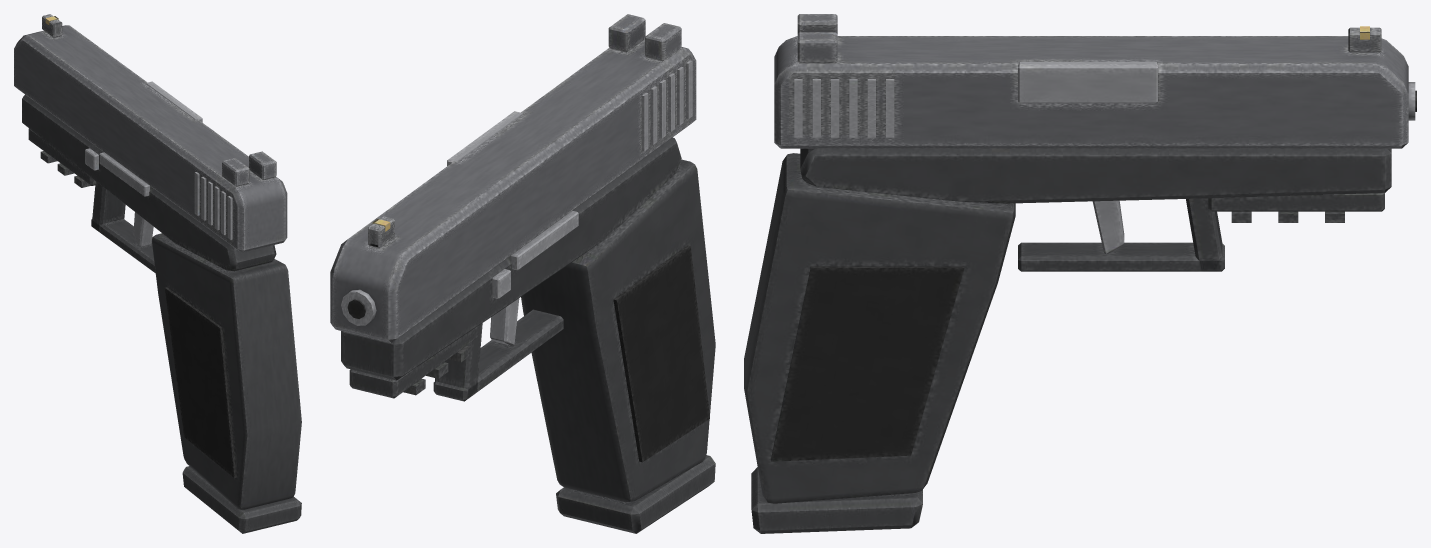
File: pistol_p9.glb
3 renders of one model, left to right at view 1: azimuth 30°, elevation 25°; view 2: azimuth 150°, elevation 25°; view 3: azimuth 270°, elevation 25°, orthographic. The views are drawn at different scales.
Visible parts, largest first — view 1: body, action, mag; view 2: body, action, mag; view 3: body, action, mag.
Part boxes in pixels (x1,y1,x2,y2): body: (22,94,301,509); action: (14,14,287,252); mag: (182,466,301,533); body: (341,137,715,502); action: (330,14,696,342); mag: (556,455,715,533); body: (744,82,1416,503); action: (774,14,1408,148); mag: (751,467,922,533).
Bounding box in the file's own units: 0.0304 × 0.1614 × 0.2015.
Materials: 1 (1 with a texture image).
